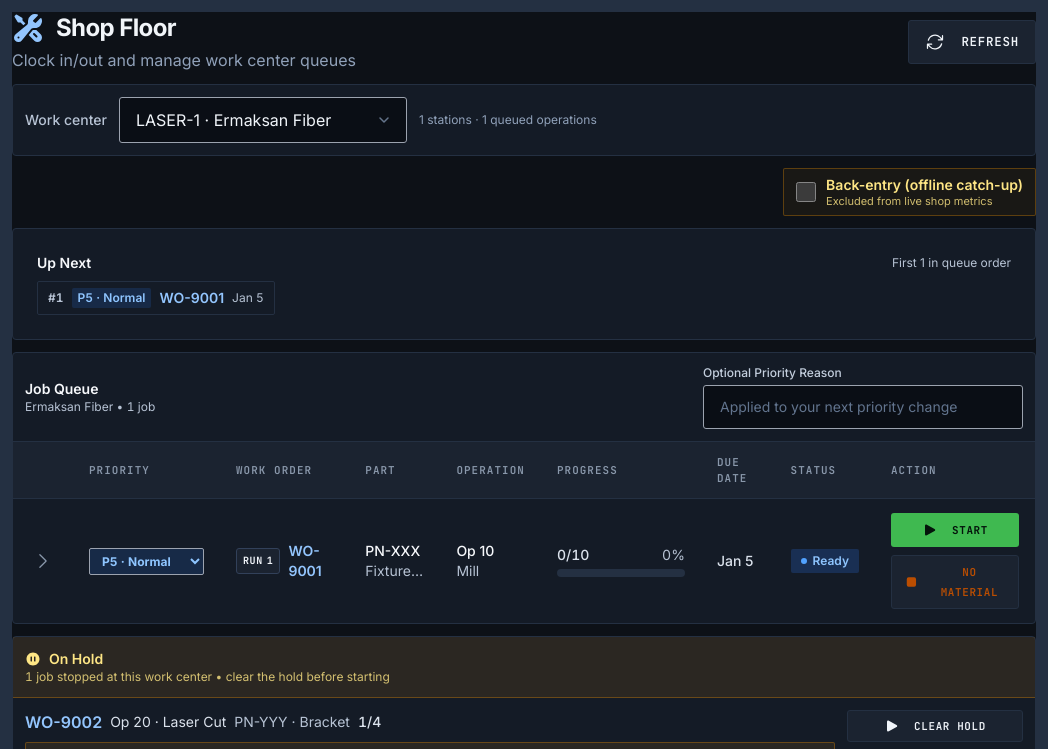
ShopFloor Clear Hold › WARNS and names a blocker the resume did not resolve
Click the button with aria-label "clear hold on WO-9002": [935, 726] box [847,710,1023,742]
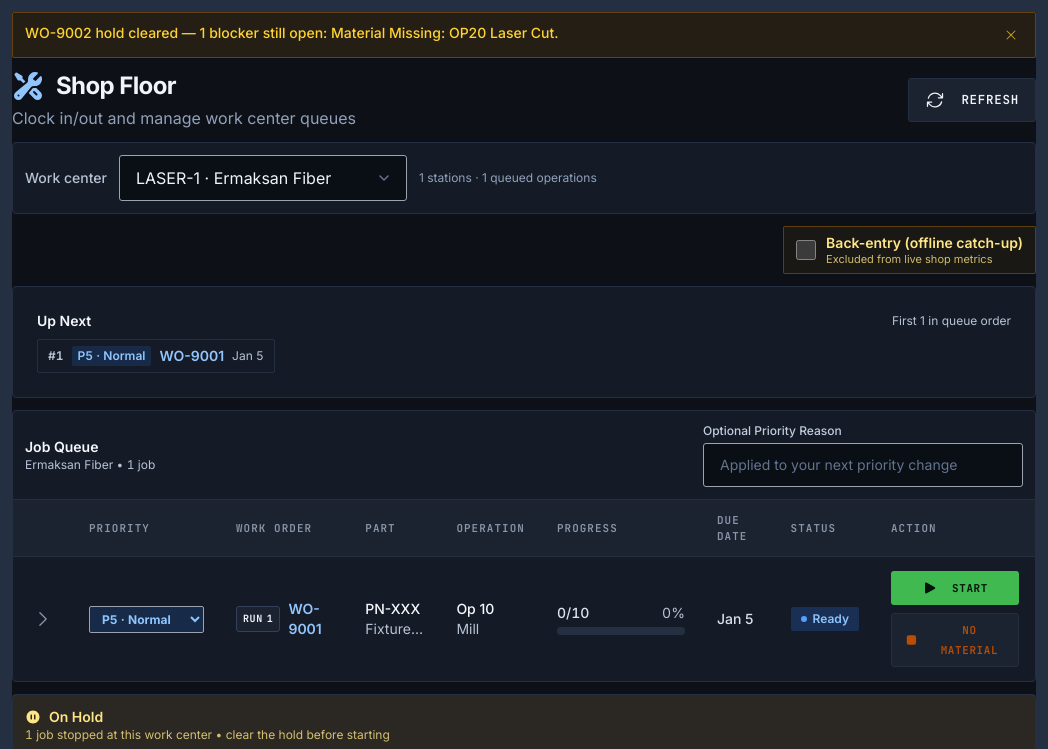
Now the message shows "1 blocker still open", box [25,24,558,41]
Now the message shows "Material Missing: OP20 Laser Cut", box [25,24,558,41]
